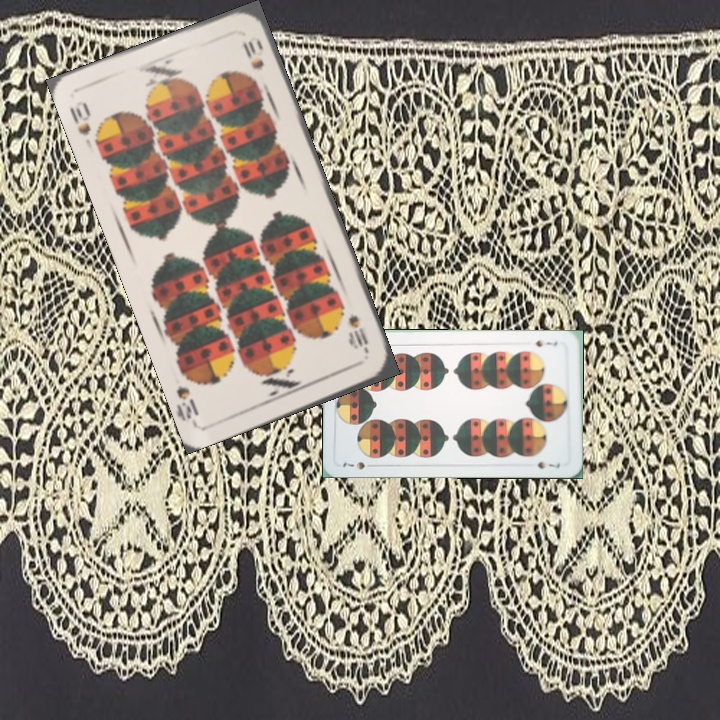S10: (344, 310, 371, 356), (65, 98, 94, 138)
S7: (339, 458, 378, 472), (531, 336, 560, 349)
